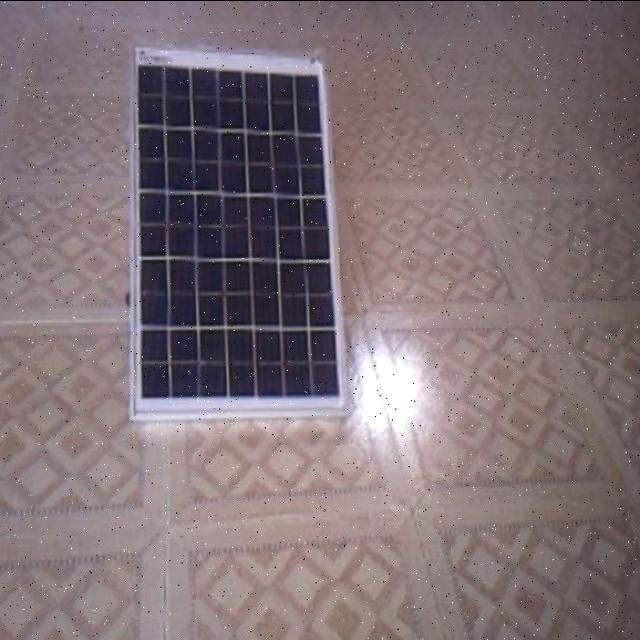Normal Solar Panel: (110, 39, 358, 433)
